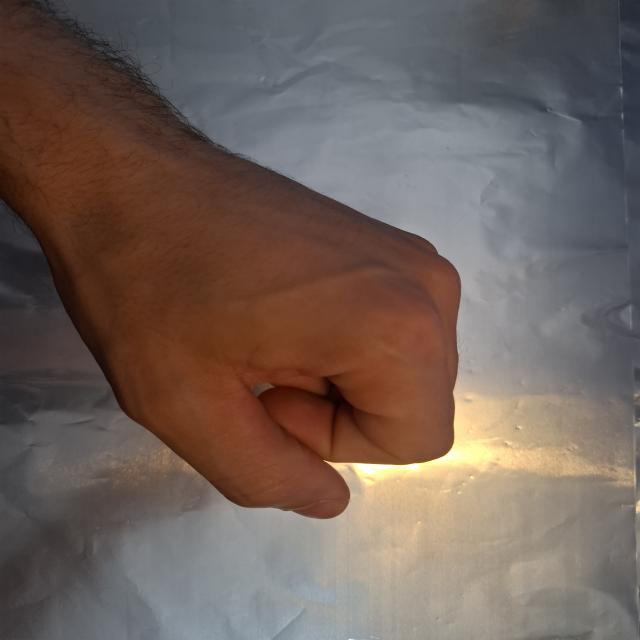glove_off: (34, 123, 466, 521)
